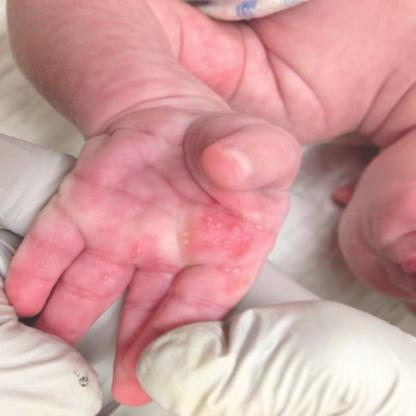Fire ant: (311, 153, 415, 285), (190, 218, 301, 268)
